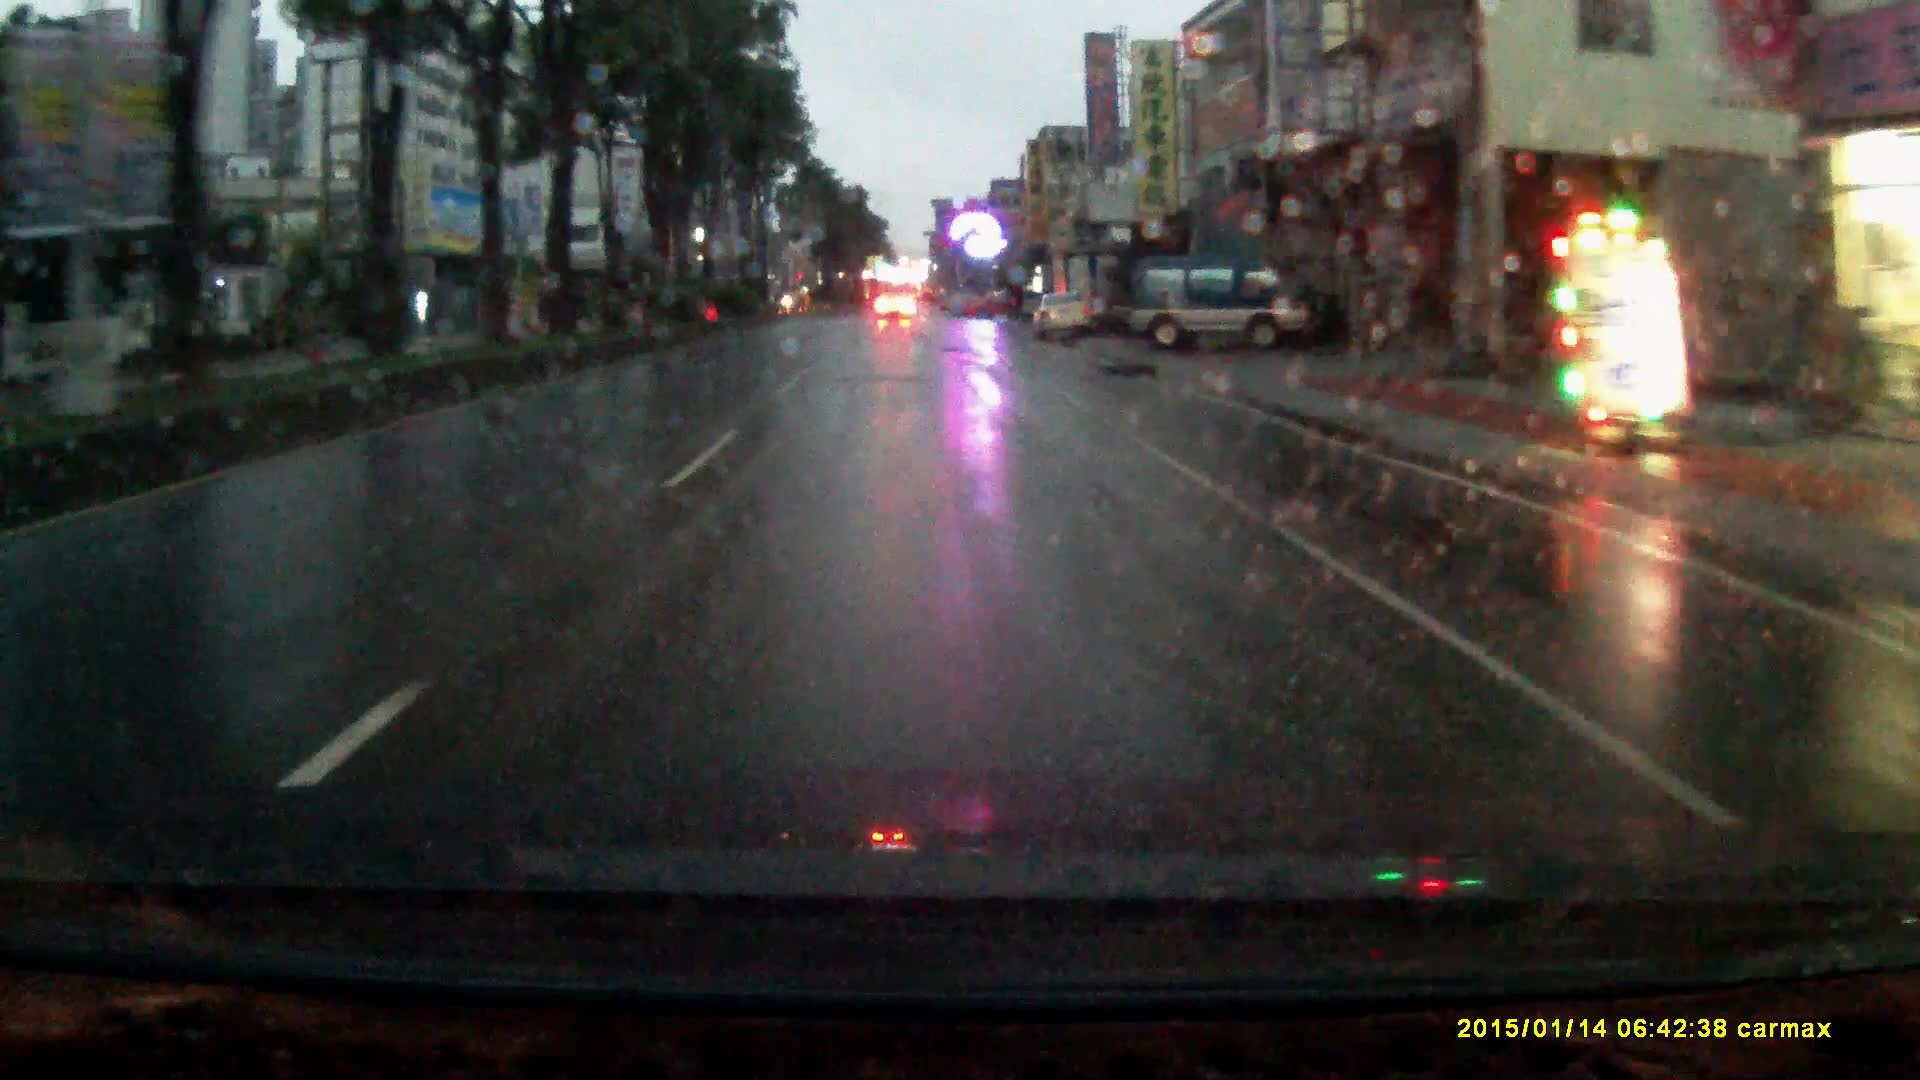vehicle: (1124, 256, 1328, 359), (1048, 249, 1124, 338), (1033, 289, 1096, 345), (876, 293, 915, 324)
